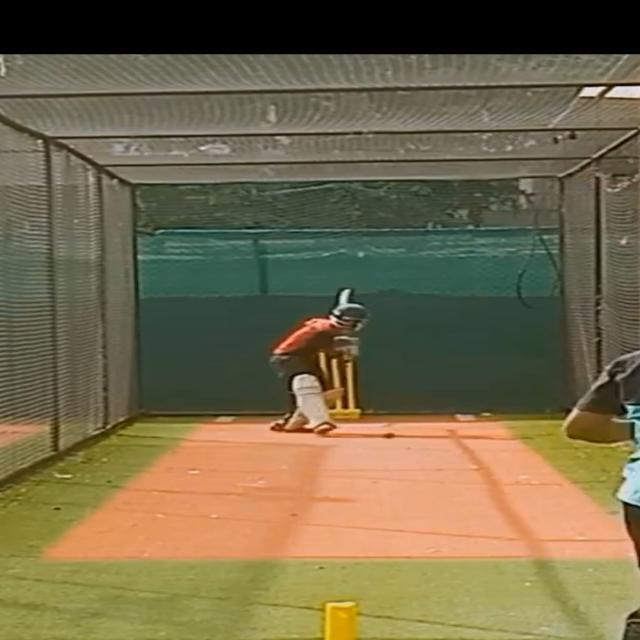ball: (381, 429, 399, 441)
stump: (316, 350, 357, 421)
